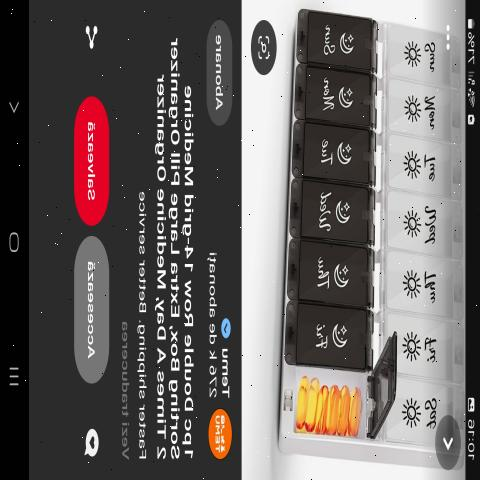PillBox: (276, 0, 397, 446)
